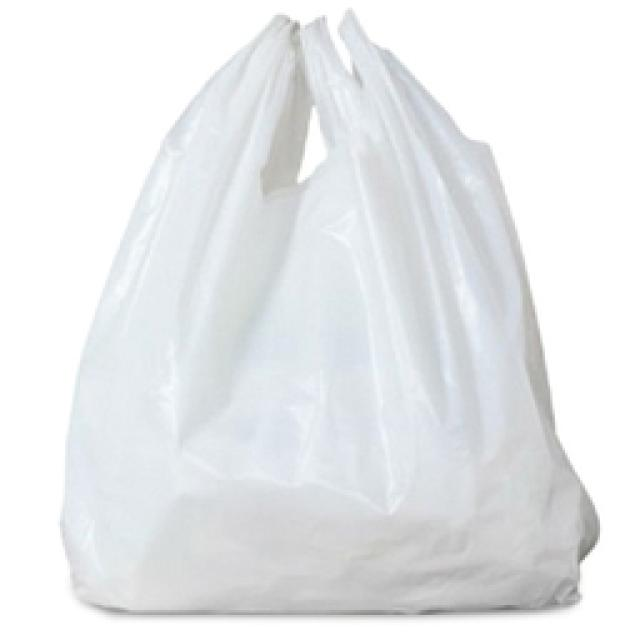plastic: (62, 10, 595, 610)
